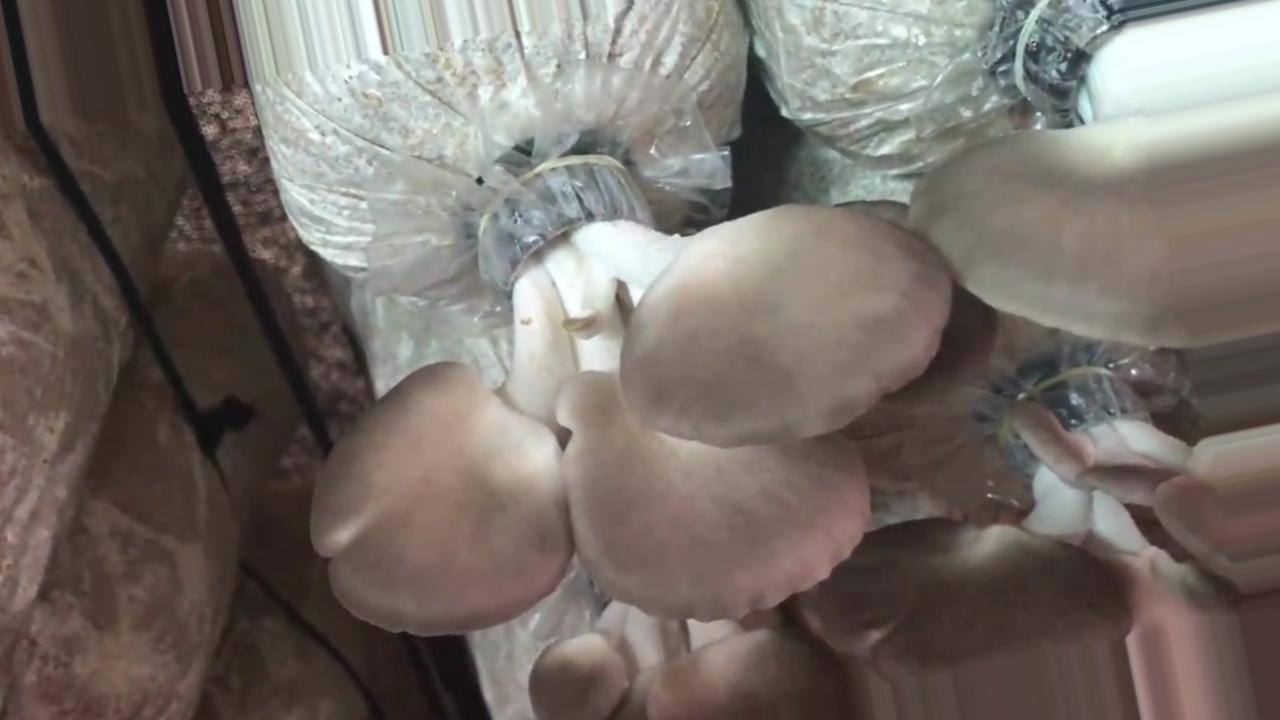nam: (309, 167, 956, 637), (813, 367, 1280, 717), (916, 1, 1280, 342), (530, 592, 893, 720)
